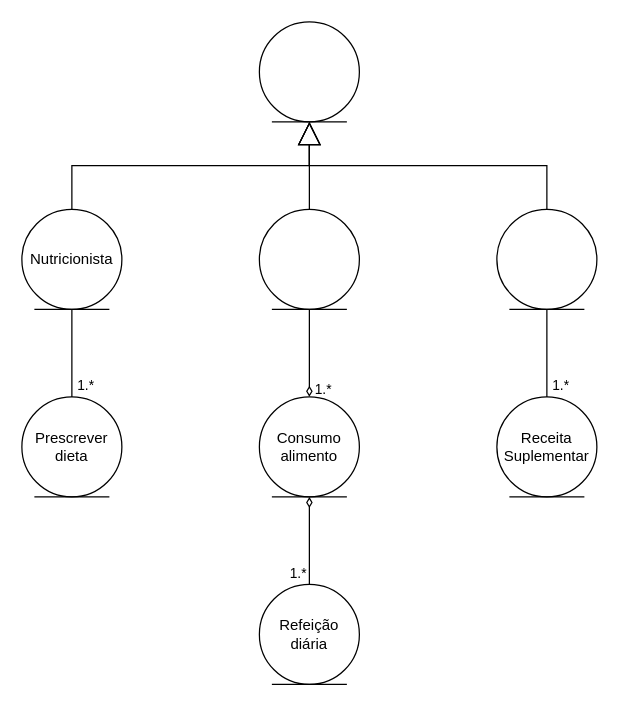
The diagram is 619 pixels wide and 706 high, and some of its shapes have lost their labels. The shapes that lost their labels are listed below. From the top down, each one's centre as x and y in pixels, then its label:
At point 308,71: "Pessoa".
At point 308,258: "Paciente".
At point 546,258: "Médico".
